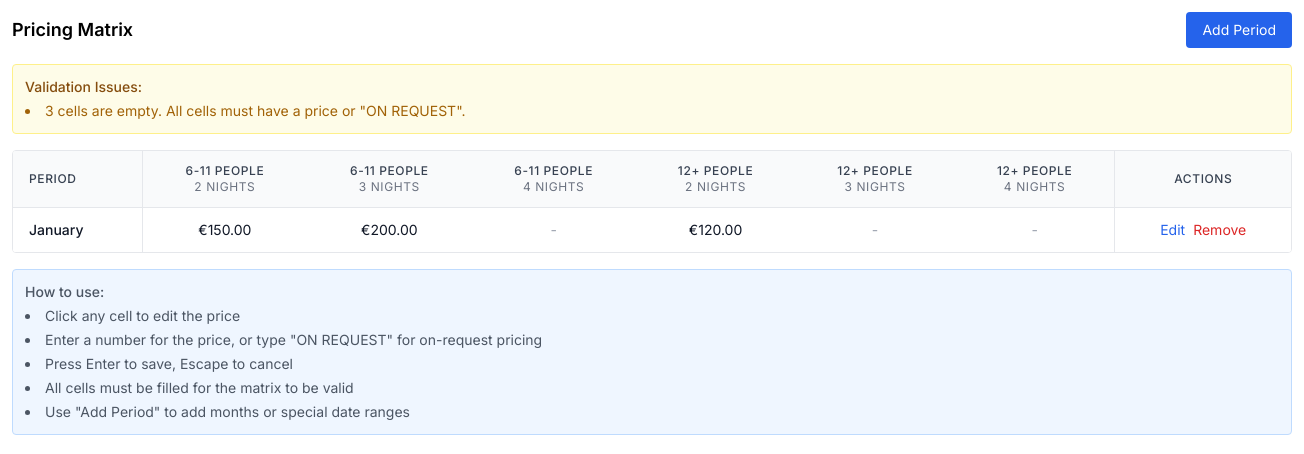
PricingMatrixEditor › cancels edit on Escape key
The width and height of the screenshot is (1304, 454).
Click the text "€150.00": {"x": 225, "y": 230} [198, 221, 252, 238]
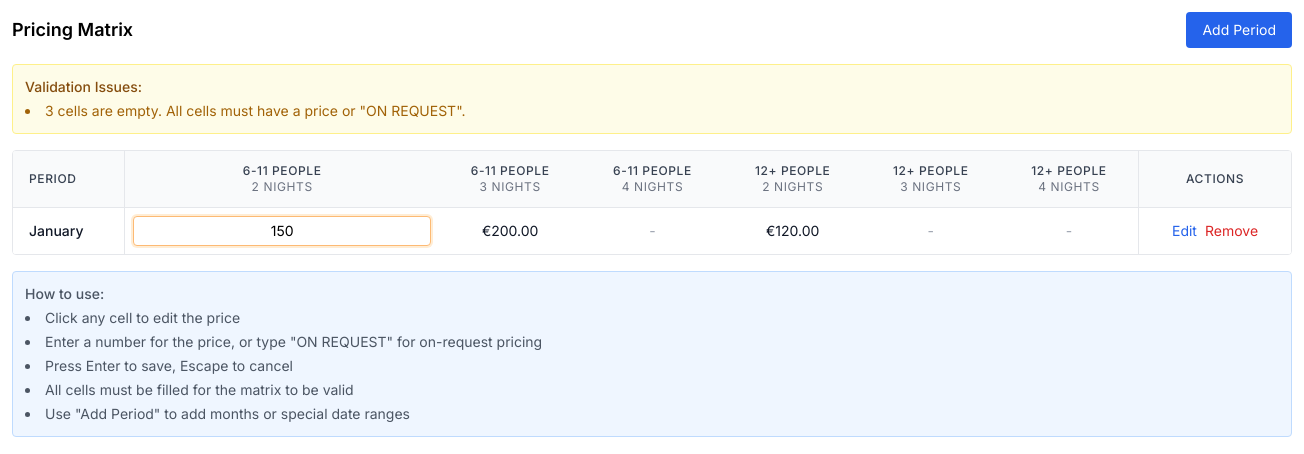
Replace the text in the field with "999": {"x": 282, "y": 231} [133, 216, 431, 246]
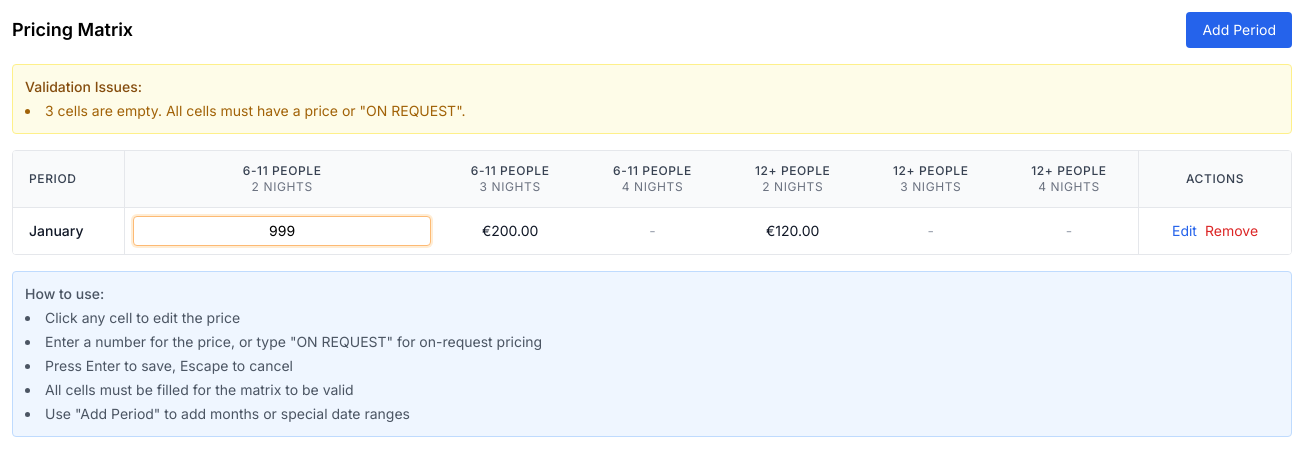
Press Escape
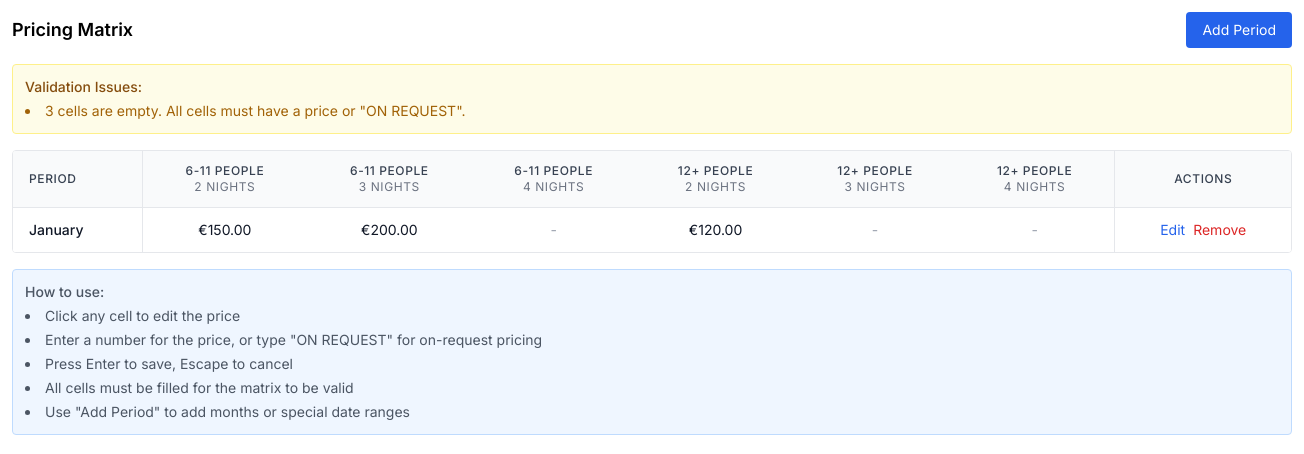
Check: the text "€150.00" is shown, box [198, 221, 252, 238]
